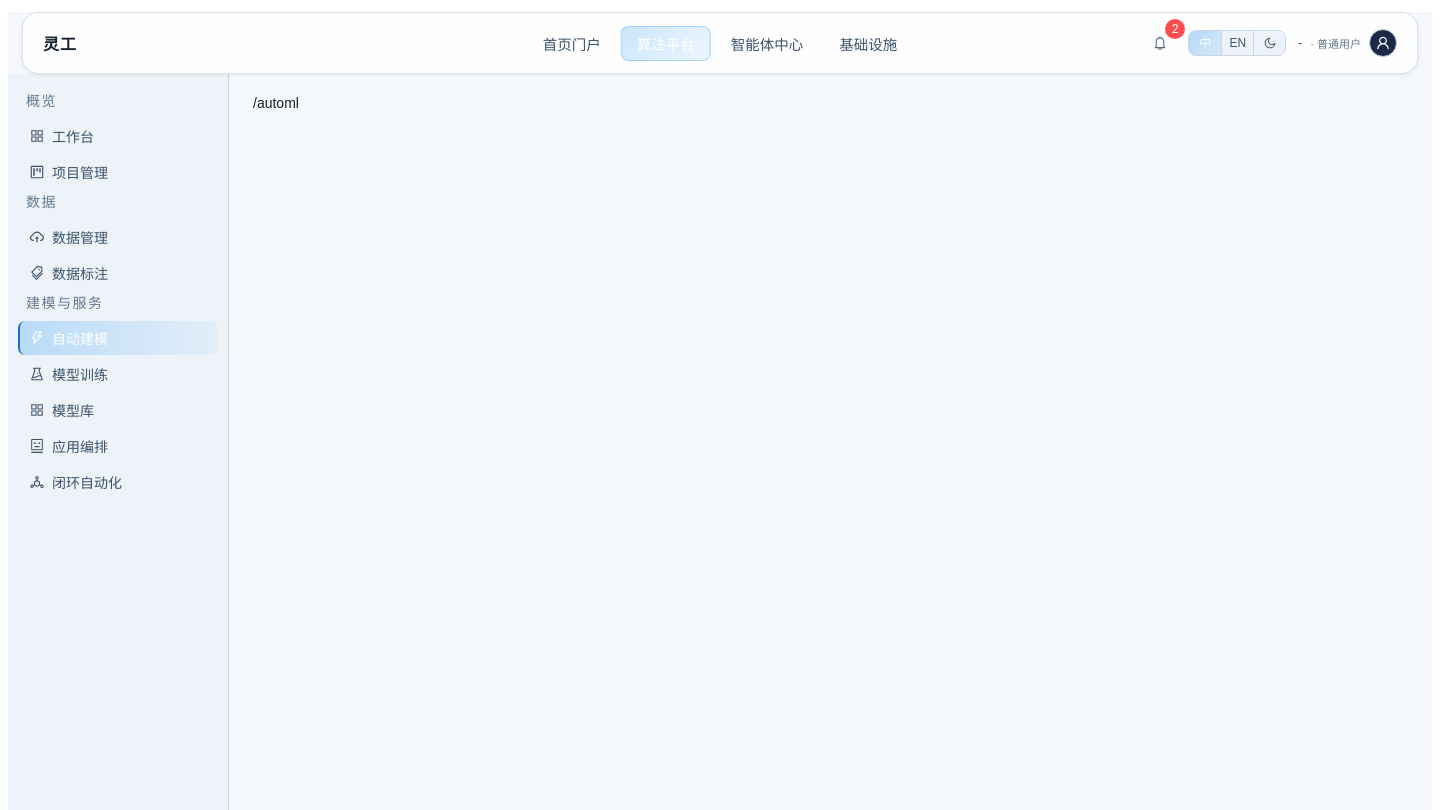
Test: AppLayout (v2 five-view shell) › navigates to the projects page from the algo sidebar
This screenshot has width=1440, height=810.
Click the button "项目管理": (118,172) 18,155 -> 218,189
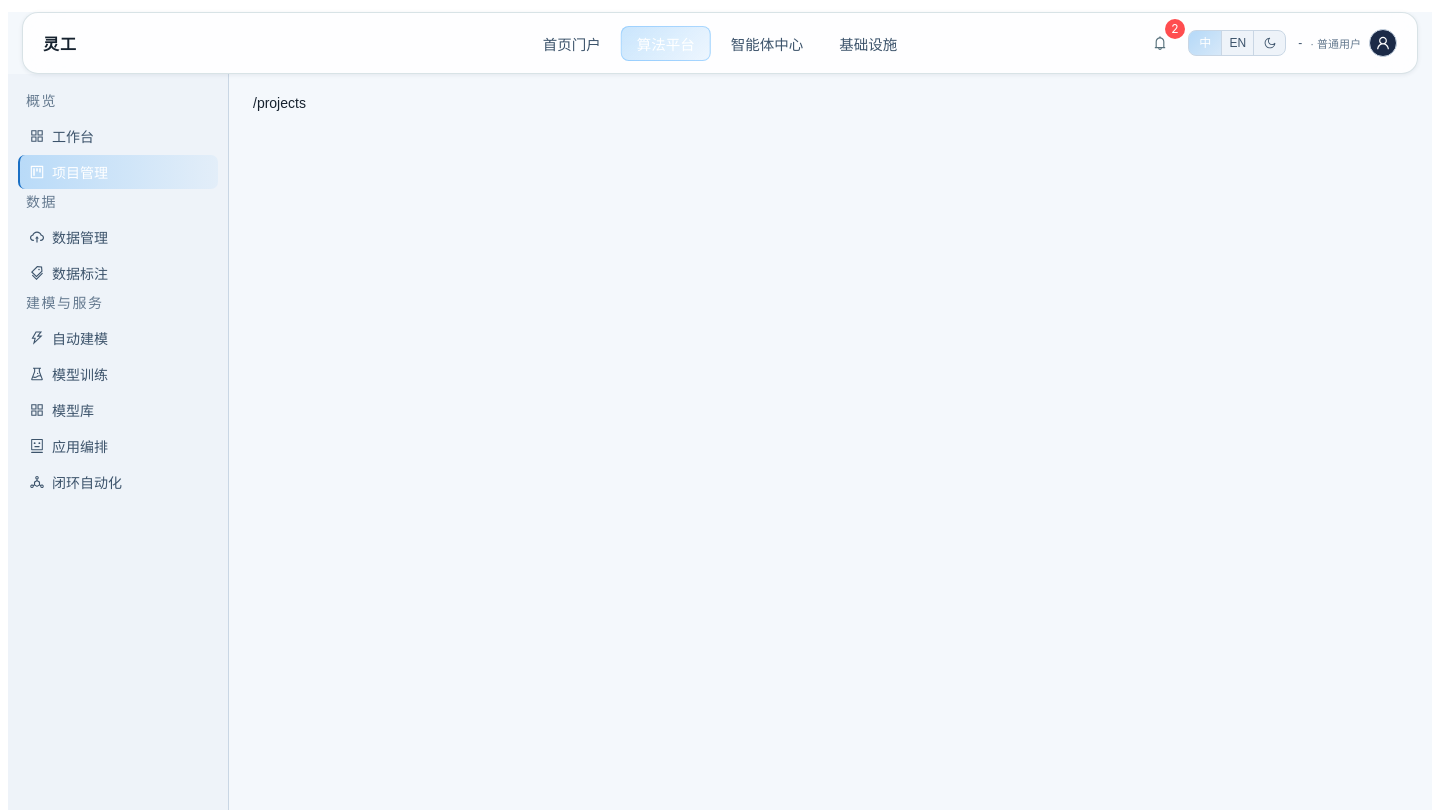
Check: the text with test id "location" reads "/projects", box 253,95 -> 306,111
